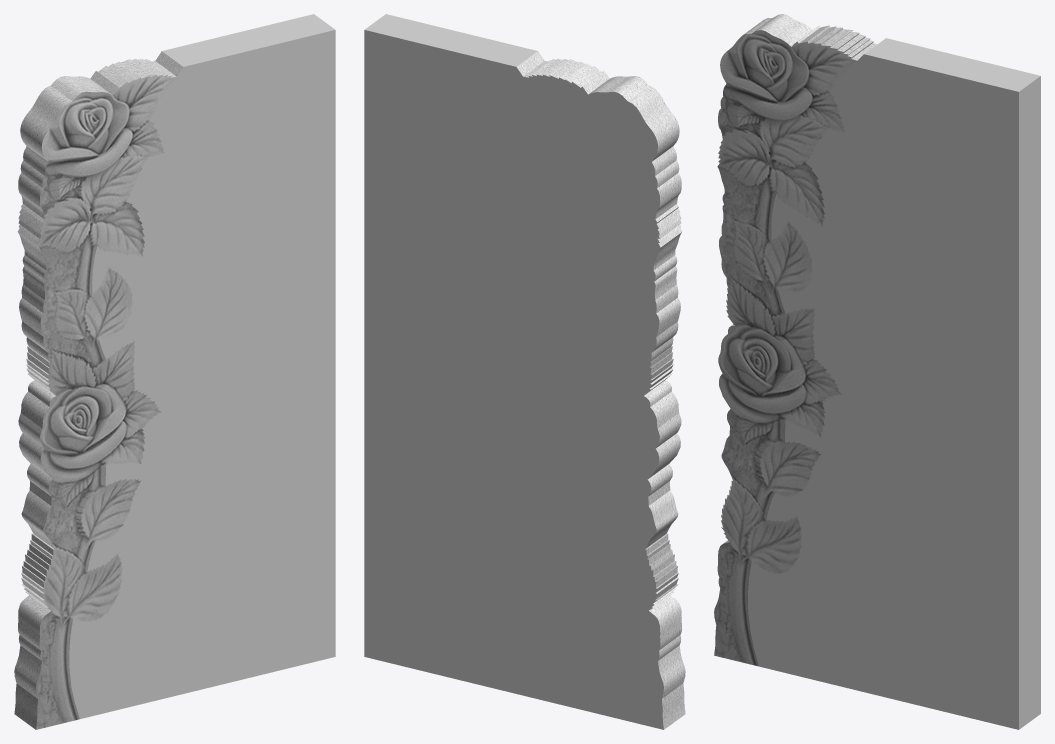
File: cn8d5fcd11dc_tkf.glb
3 renders of one model, left to right at view 1: azimuth 30°, elevation 25°; view 2: azimuth 150°, elevation 25°; view 3: azimuth 330°, elevation 25°, orthographic.
Visible parts, largest first — view 1: Pam-d01-126, Pam-d01-126_2_notexture; view 2: Pam-d01-126, Pam-d01-126_2_notexture; view 3: Pam-d01-126, Pam-d01-126_2_notexture.
Part boxes in pixels (x1,y1,x2,y2): Pam-d01-126: [69, 14, 335, 718]; Pam-d01-126_2_notexture: [14, 51, 182, 729]; Pam-d01-126: [364, 14, 663, 729]; Pam-d01-126_2_notexture: [517, 51, 685, 729]; Pam-d01-126: [748, 38, 1040, 729]; Pam-d01-126_2_notexture: [714, 14, 877, 666].
Bounding box in the file's own units: 0.4 × 0.8 × 0.05.
1 material, 1 textured.
